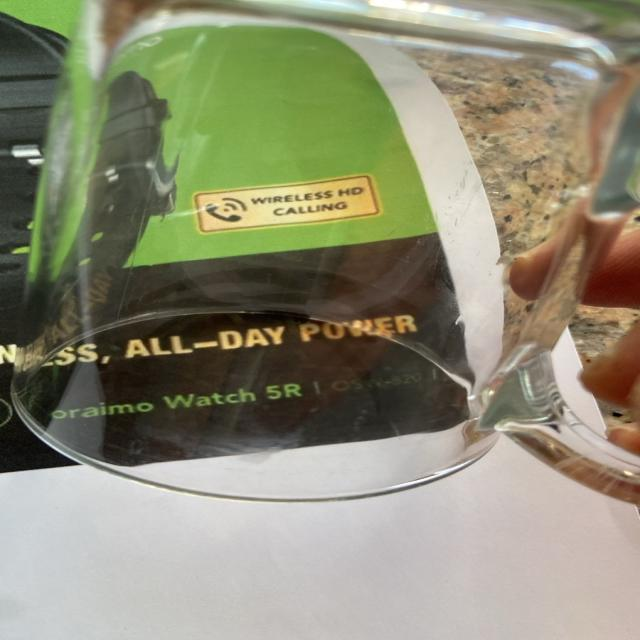Oraimo Watch 5R OSW-820: (54, 366, 445, 427)
